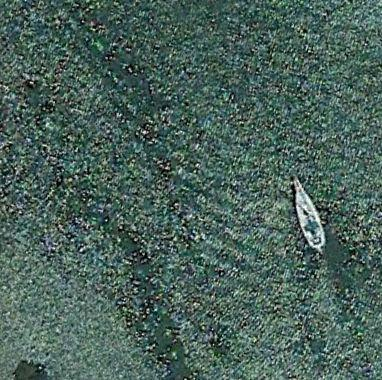Ships: (289, 165, 330, 261)
